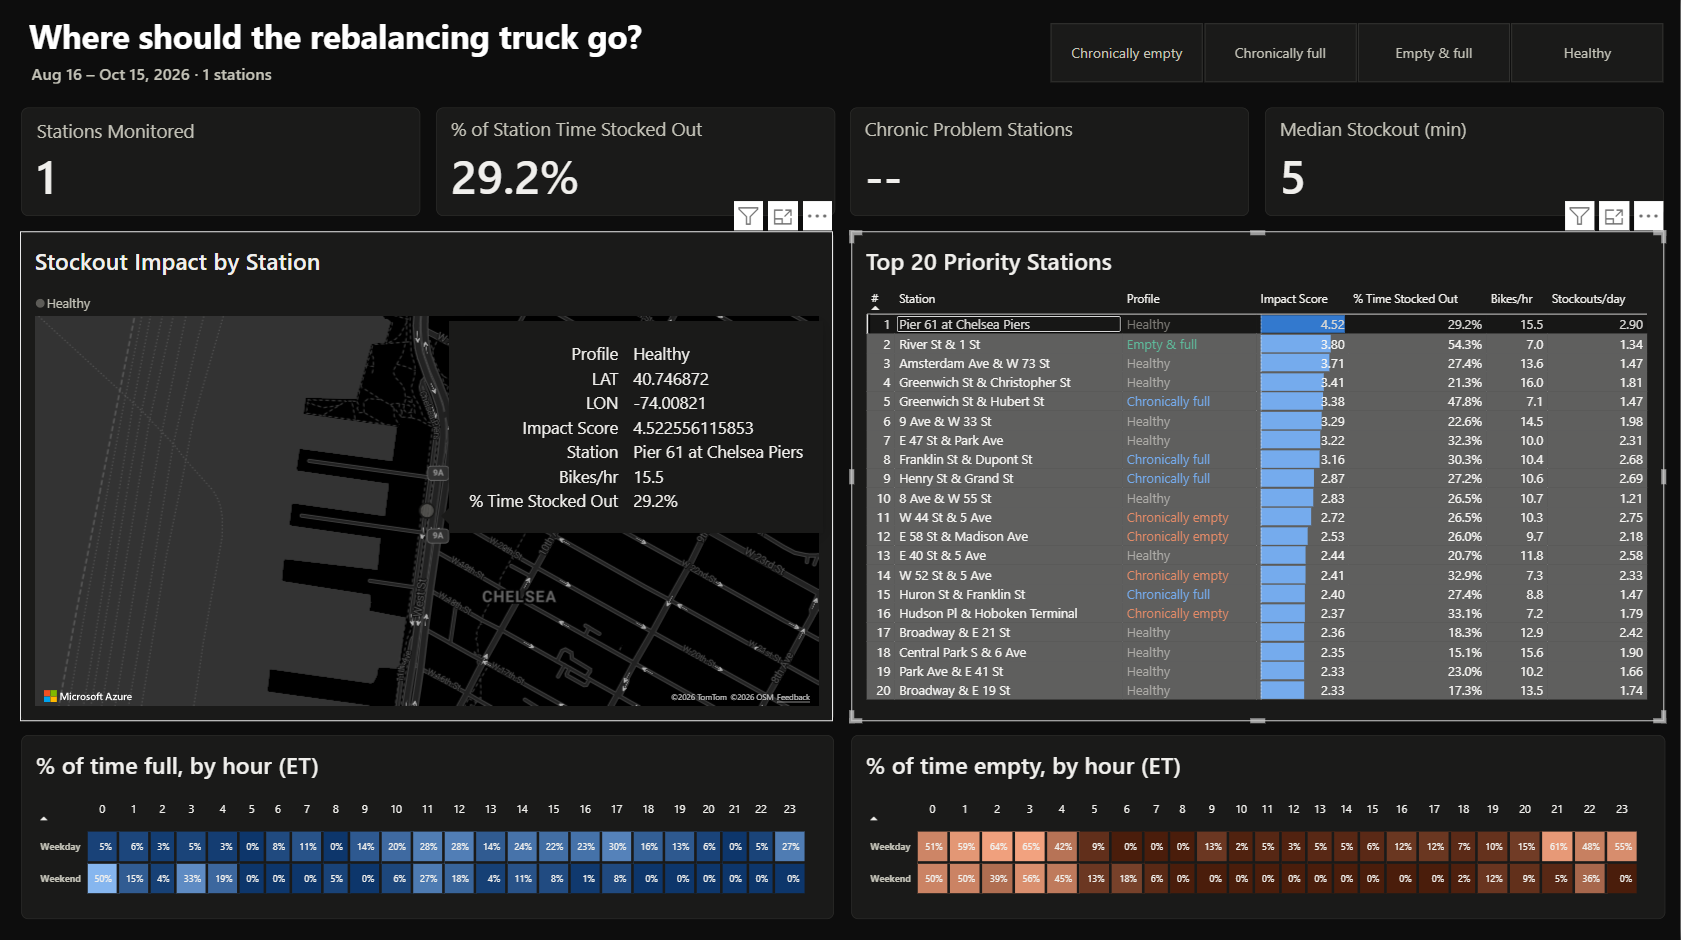

What the dashboard file says about the page in this screenshot:
{"tool":"powerbi","page":{"name":"Overview","canvas":[1920,1080],"ordinal":0},"visuals":[{"type":"textbox","box":[23,21.7,1200,64],"z":0},{"type":"cardVisual","fields":{"Data":["DIM_STATION.Data Window"]},"box":[20,68,760,40],"z":1000},{"type":"slicer","fields":{"Values":["DIM_STATION.Profile"]},"box":[1180,30,740,71.7],"z":2000},{"type":"cardVisual","fields":{"Data":["DIM_STATION.Stations Monitored"]},"box":[24,128,456,124],"z":3000},{"type":"cardVisual","fields":{"Data":["DIM_STATION.Pct Time Stocked Out"]},"box":[498,128,456,124],"z":4000},{"type":"cardVisual","fields":{"Data":["DIM_STATION.Median Stockout Minutes"]},"box":[1446,128,456,124],"z":5000},{"type":"cardVisual","fields":{"Data":["DIM_STATION.Problem Stations"]},"box":[972,128,456,124],"z":6000},{"type":"azureMap","title":"Stockout Impact by Station","fields":{"Series":["DIM_STATION.Profile"],"Size":["Sum(DIM_STATION.STOCKOUT_IMPACT_SCORE)"],"X":["DIM_STATION.LON"],"Y":["DIM_STATION.LAT"]},"box":[22.9,270,930,560],"z":7000},{"type":"tableEx","title":"Top 20 Priority Stations","fields":{"Values":["DIM_STATION.REBALANCING_PRIORITY_RANK","DIM_STATION.STATION_NAME","DIM_STATION.Profile","DIM_STATION.STOCKOUT_IMPACT_SCORE","DIM_STATION.Pct Time Stocked Out","DIM_STATION.BIKES_MOVED_PER_HOUR","DIM_STATION.STOCKOUT_EPISODES_PER_DAY"]},"box":[973.3,270,930,560],"z":8000},{"type":"pivotTable","title":"% of time full, by hour (ET)","fields":{"Columns":["FCT_STATION_HOURLY.HOUR_ET"],"Rows":["FCT_STATION_HOURLY.Day Type"],"Values":["DIM_STATION.Pct Time Full (Hourly)"]},"box":[24.4,845.6,928.9,210],"z":9000},{"type":"pivotTable","title":"% of time empty, by hour (ET)","fields":{"Columns":["FCT_STATION_HOURLY.HOUR_ET"],"Rows":["FCT_STATION_HOURLY.Day Type"],"Values":["DIM_STATION.Pct Time Empty (Hourly)"]},"box":[973.3,845.6,930,210],"z":10000}]}

Visuals, with their boxes in screenshot pixels (x1, y1, x2, y2), scaled from the page's 1920x1080 canvas onto the 1681x940 screenshot:
textbox: x1=20, y1=19, x2=1071, y2=75
cardVisual - DIM_STATION.Data Window: x1=18, y1=59, x2=683, y2=94
slicer - DIM_STATION.Profile: x1=1033, y1=26, x2=1680, y2=89
cardVisual - DIM_STATION.Stations Monitored: x1=21, y1=111, x2=420, y2=219
cardVisual - DIM_STATION.Pct Time Stocked Out: x1=436, y1=111, x2=835, y2=219
cardVisual - DIM_STATION.Median Stockout Minutes: x1=1266, y1=111, x2=1665, y2=219
cardVisual - DIM_STATION.Problem Stations: x1=851, y1=111, x2=1250, y2=219
"Stockout Impact by Station" azureMap: x1=20, y1=235, x2=834, y2=722
"Top 20 Priority Stations" tableEx: x1=852, y1=235, x2=1666, y2=722
"% of time full, by hour (ET)" pivotTable: x1=21, y1=736, x2=835, y2=919
"% of time empty, by hour (ET)" pivotTable: x1=852, y1=736, x2=1666, y2=919
